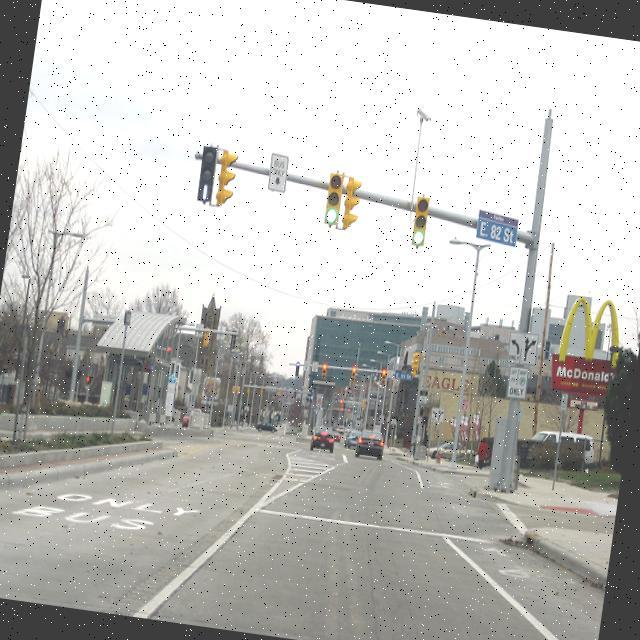fire_hydrant: (434, 447, 442, 464)
